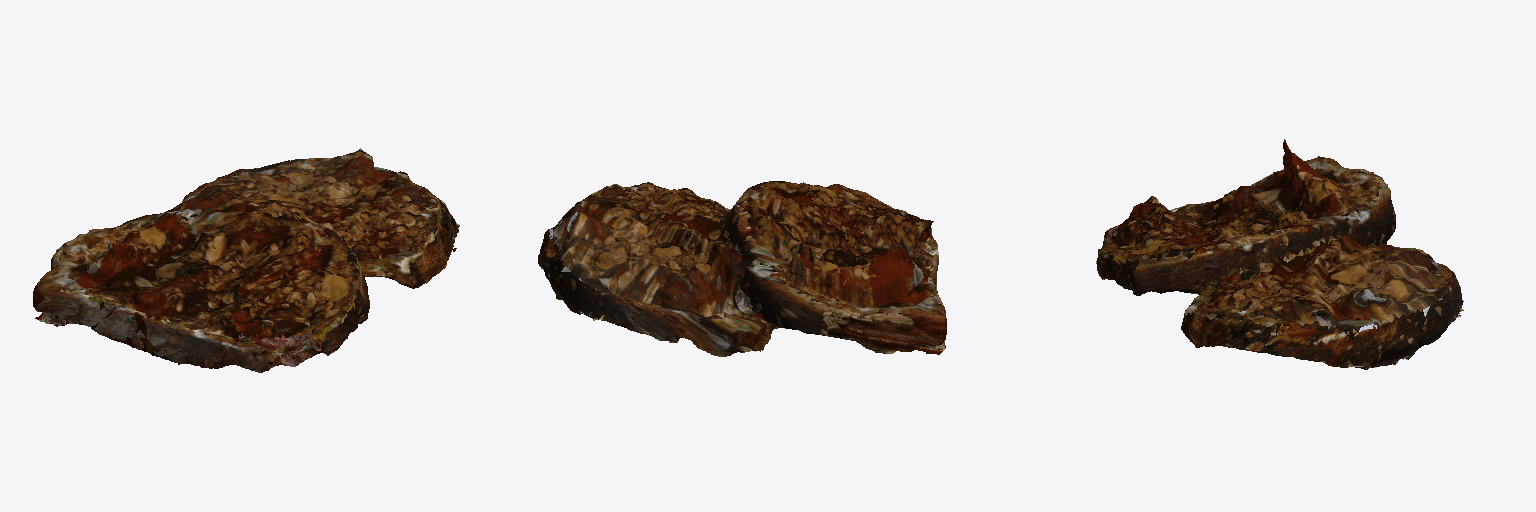
The picture shows the model from 3 angles: view 1: azimuth 30°, elevation 25°; view 2: azimuth 150°, elevation 25°; view 3: azimuth 270°, elevation 25°; orthographic projection.
Parts seen in each view (by area): view 1: Panes; view 2: Panes; view 3: Panes.
Boxes of the visible parts, x1=… form: Panes: x1=33, y1=148, x2=459, y2=372; Panes: x1=538, y1=181, x2=946, y2=356; Panes: x1=1096, y1=139, x2=1463, y2=369.
Bounding box in the file's own units: 10.02 × 2.24 × 8.01.
4 materials, 4 textured.